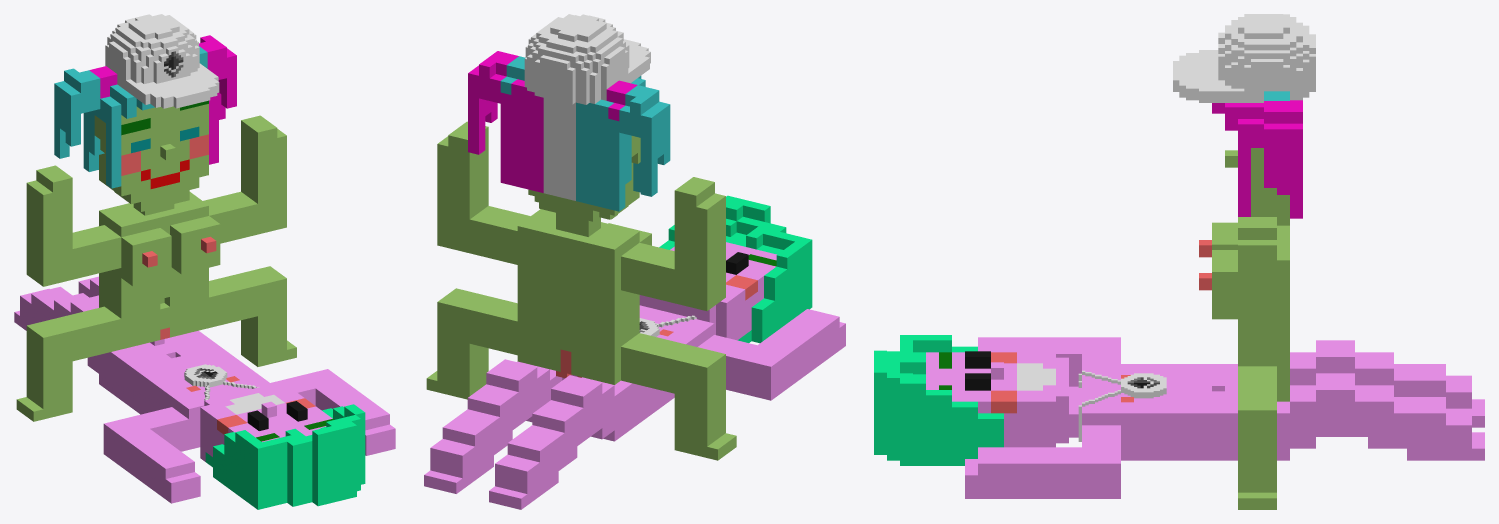
The model's file is kama8.glb.
3 views of the same model, side by side, from view 1: azimuth 30°, elevation 25°; view 2: azimuth 150°, elevation 25°; view 3: azimuth 270°, elevation 25° (orthographic). The views are drawn at different scales.
Visible parts, largest first — view 1: Node; view 2: Node; view 3: Node.
Boxes of the visible parts, x1,y1,x2,y2 form: Node: [14, 14, 395, 509]; Node: [424, 14, 845, 509]; Node: [874, 14, 1484, 509].
Bounding box in the file's own units: 10.8 × 14 × 18.8.
1 material, 1 textured.
